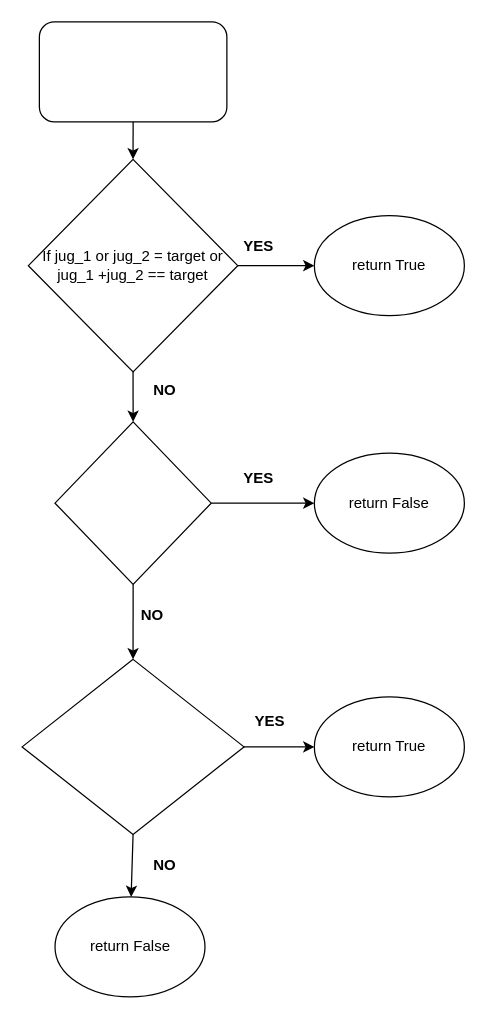
Some shapes in this 486 by 1019 pixel diagram are drawn without their labels. Here are the shapes that lost their labels. From the top down, the centre of each, then its label:
(132,71): Start param: jug_1, jug_2, target
(132,502): if jug_1 + jug_2 is > target
(132,746): if target == gcd(jug_1, jug_2)
